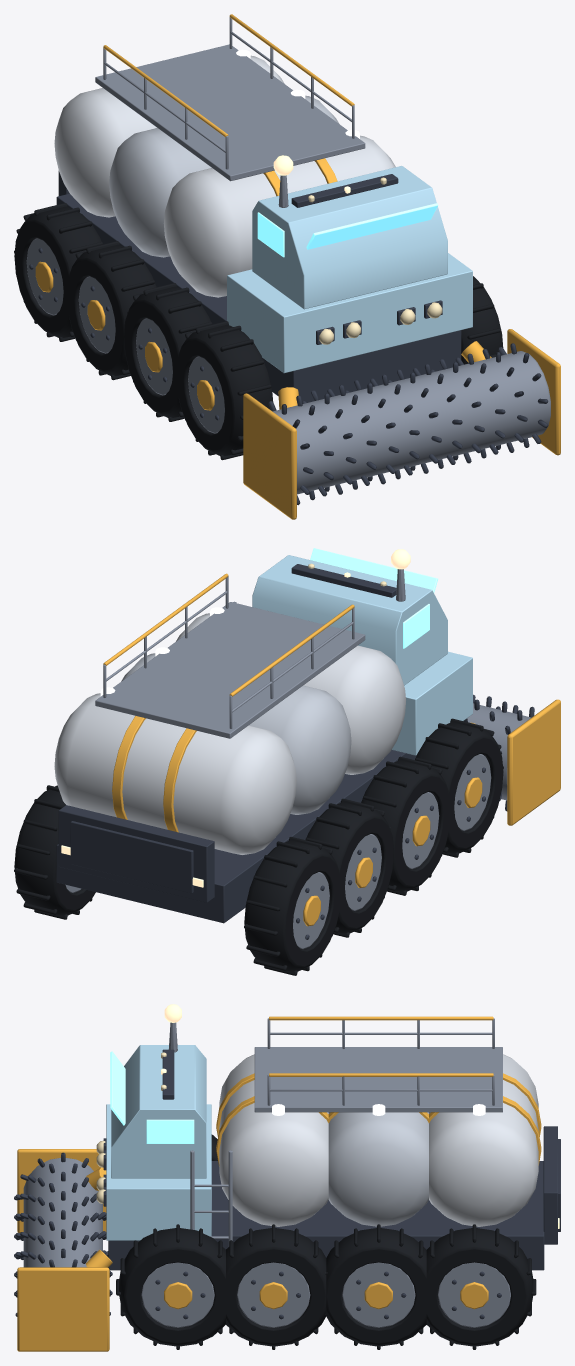
File: kryokoloss.fbx
3 views of the same model, one above another, from view 1: azimuth 30°, elevation 25°; view 2: azimuth 150°, elevation 25°; view 3: azimuth 270°, elevation 25° (orthographic). The views are drawn at different scales.
Parts seen in each view (by area): view 1: kryokoloss_Koerper, kryokoloss, kryokoloss_Werkzeug; view 2: kryokoloss_Koerper, kryokoloss, kryokoloss_Werkzeug; view 3: kryokoloss_Koerper, kryokoloss, kryokoloss_Werkzeug.
Part boxes in pixels (x1=…): kryokoloss_Koerper: x1=54, y1=14, x2=491, y2=409; kryokoloss: x1=14, y1=203, x2=503, y2=460; kryokoloss_Werkzeug: x1=243, y1=329, x2=560, y2=519; kryokoloss_Koerper: x1=54, y1=548, x2=475, y2=923; kryokoloss: x1=14, y1=718, x2=503, y2=975; kryokoloss_Werkzeug: x1=463, y1=694, x2=560, y2=825; kryokoloss_Koerper: x1=86, y1=1004, x2=560, y2=1270; kryokoloss: x1=116, y1=1134, x2=536, y2=1349; kryokoloss_Werkzeug: x1=14, y1=1149, x2=112, y2=1351.
Size of the model in its own units: 3.01 by 3.05 by 5.72.
